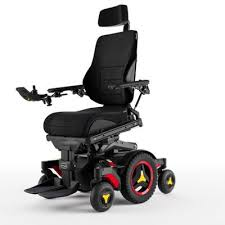wheelchair: (16, 6, 169, 213)
